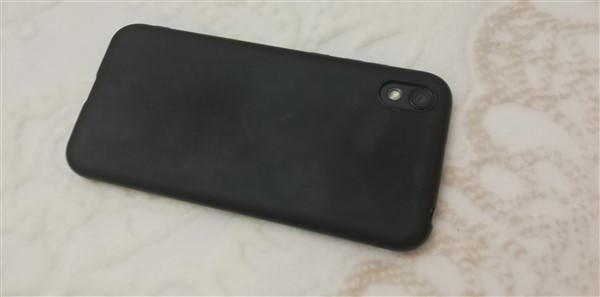telefon: (60, 17, 459, 258)
